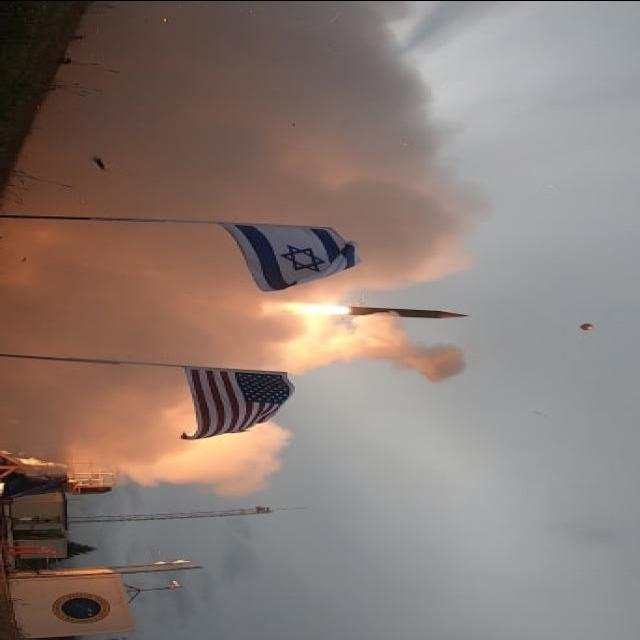Missile: (338, 303, 484, 322)
